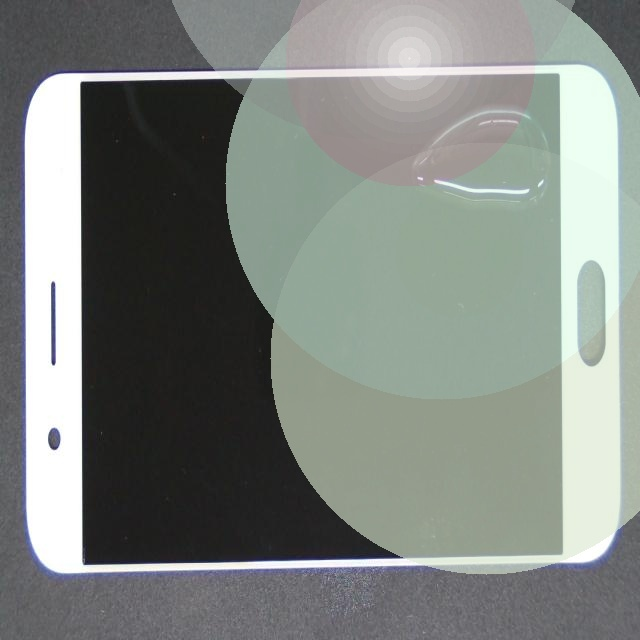oil: (272, 128, 640, 263)
